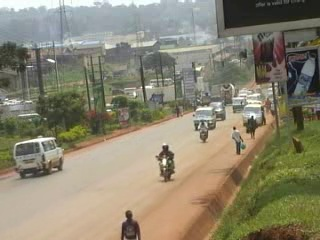Car: (207, 98, 227, 120)
Motorcycle: (148, 142, 177, 184), (193, 119, 211, 142)
